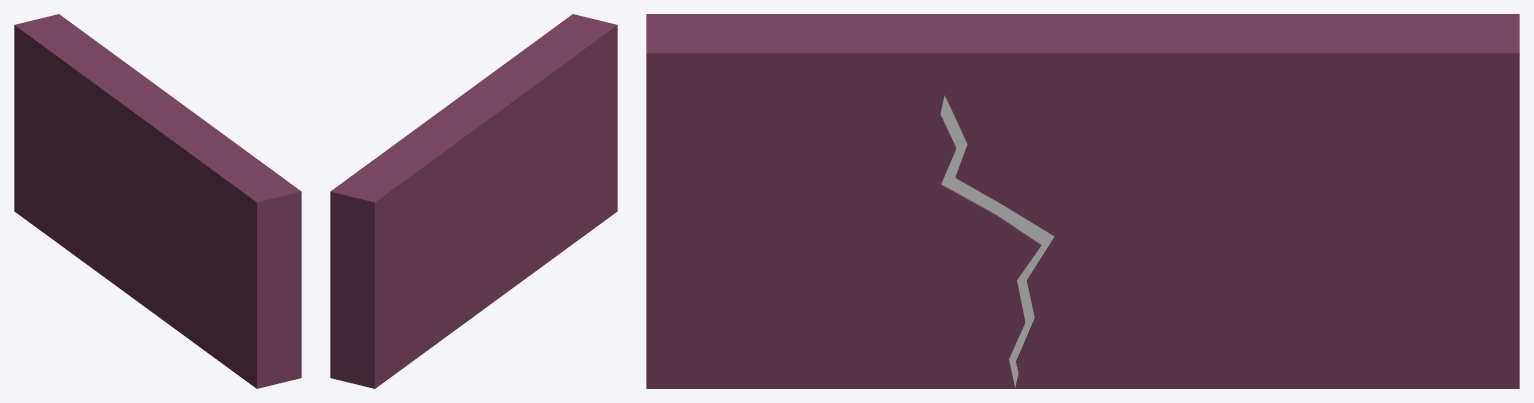
The model's file is WallFront_Backt.fbx.
3 views of the same model, side by side, from view 1: azimuth 30°, elevation 25°; view 2: azimuth 150°, elevation 25°; view 3: azimuth 270°, elevation 25° (orthographic). The views are drawn at different scales.
Parts seen in each view (by area): view 1: Cube.008; view 2: Cube.008; view 3: Cube.008.
Boxes of the visible parts, x1,y1,x2,y2 form: Cube.008: (14, 14, 301, 388); Cube.008: (330, 14, 617, 388); Cube.008: (646, 14, 1519, 388).
Size of the model in its own units: 100 by 398 by 939.
